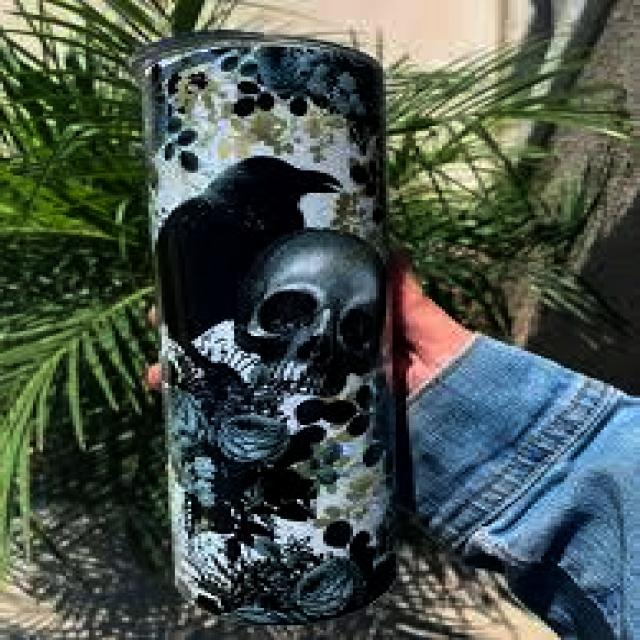bottle: (125, 20, 409, 628)
